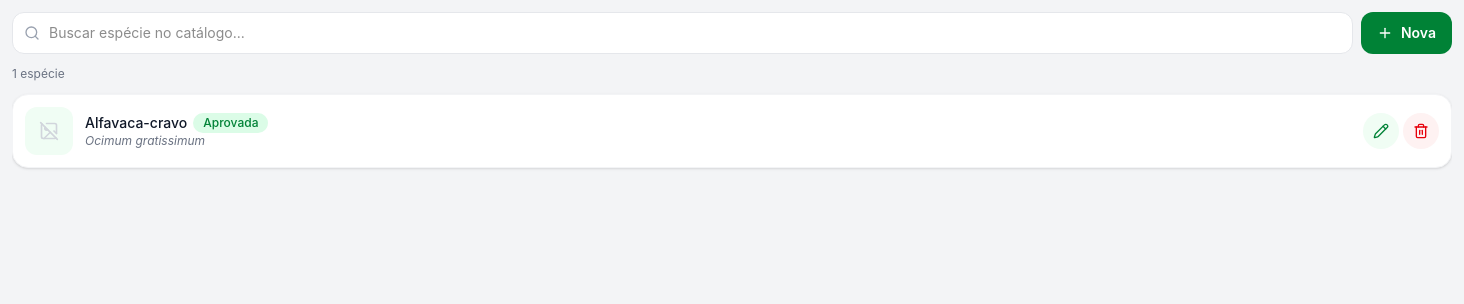
Test: SpeciesCatalogManager › mostra o erro da action de exclusão sem remover o item (ex.: ocorrências dependentes)
Click the button named "excluir alfavaca-cravo". click: (1421,131)
box: [1403,113,1439,149]
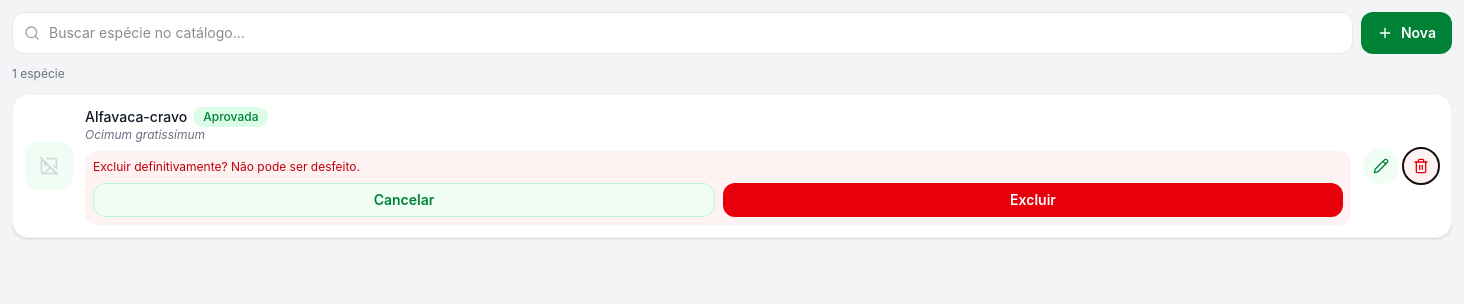
Click the button "Excluir". click: (1033,200)
box: [723,183,1343,217]
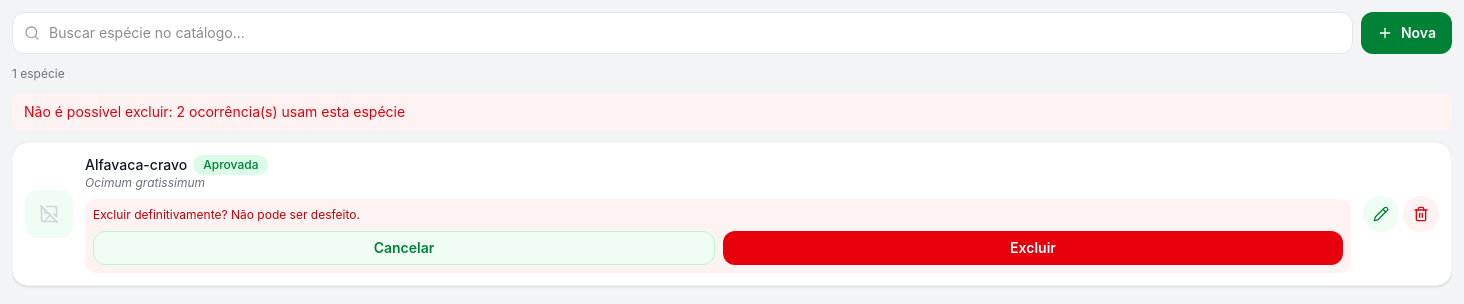
Expected: the text "Alfavaca-cravo" is shown, [85,155,187,175]
Now the text "Não é possível excluir: 2 ocorrência(s) usam esta espécie" is shown, box [12,94,1452,130]
